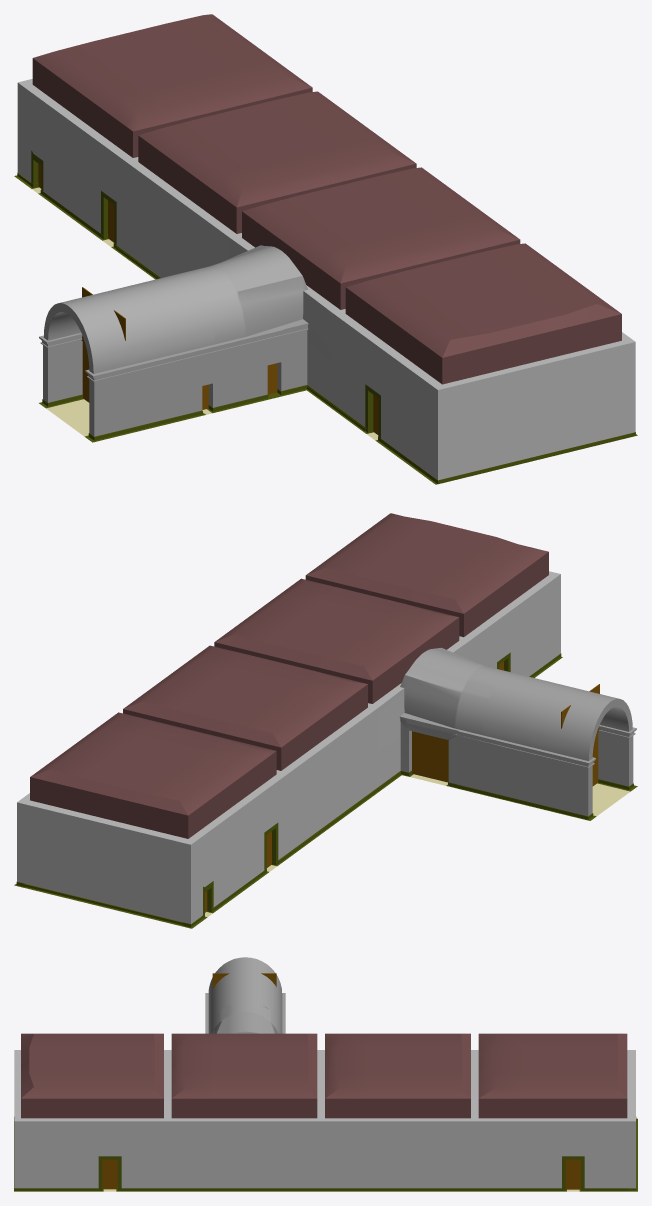
The model's file is 3dm_Pinacoteca.fbx.
3 renders of one model, top to bottom at view 1: azimuth 30°, elevation 25°; view 2: azimuth 150°, elevation 25°; view 3: azimuth 270°, elevation 25°, orthographic. The views are drawn at different scales.
Parts seen in each view (by area): view 1: polySurface22, pCube55, pCube63, pCube62, pCube61, polySurface7, polySurface3, polySurface16, polySurface21, polySurface13, polySurface23; view 2: polySurface22, pCube63, pCube62, pCube55, pCube61, polySurface13, polySurface3, polySurface16, polySurface21, polySurface7, pCube28, polySurface23 (+2 smaller); view 3: polySurface22, pCube63, pCube61, pCube62, pCube55, polySurface3, polySurface21, polySurface16, pCube57, pCube52, polySurface28.
Part boxes in pixels (box(x1,y1,x2,y2)): polySurface22: box(17, 79, 635, 480); pCube55: box(345, 243, 621, 384); pCube63: box(32, 14, 312, 157); pCube62: box(138, 91, 416, 233); pCube61: box(242, 167, 520, 309); polySurface7: box(85, 319, 308, 436); polySurface3: box(43, 273, 214, 373); polySurface16: box(180, 245, 307, 344); polySurface21: box(17, 150, 635, 484); polySurface13: box(39, 333, 82, 402); polySurface23: box(32, 187, 378, 440); polySurface22: box(17, 571, 560, 923); pCube63: box(30, 712, 276, 838); pCube62: box(123, 645, 367, 770); pCube55: box(305, 513, 548, 637); pCube61: box(214, 578, 459, 703); polySurface13: box(399, 713, 595, 816); polySurface3: box(482, 672, 632, 760); polySurface16: box(400, 647, 511, 734); polySurface21: box(16, 652, 561, 927); polySurface7: box(598, 725, 636, 786); pCube28: box(412, 731, 448, 782); polySurface23: box(205, 774, 630, 917); polySurface22: box(14, 1050, 635, 1188); pCube63: box(478, 1033, 627, 1118); pCube61: box(171, 1033, 317, 1118); pCube62: box(325, 1033, 470, 1118); pCube55: box(21, 1033, 163, 1118); polySurface3: box(208, 957, 282, 1033); polySurface21: box(14, 1117, 636, 1190); polySurface16: box(208, 1001, 281, 1033); pCube57: box(565, 1159, 580, 1189); pCube52: box(102, 1159, 117, 1189); polySurface28: box(116, 1189, 566, 1191).
Size of the model in its own units: 46.32 by 13.65 by 81.27.
